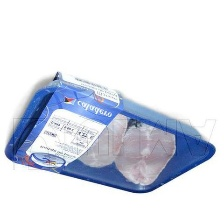plastic_box: (0, 67, 221, 200)
